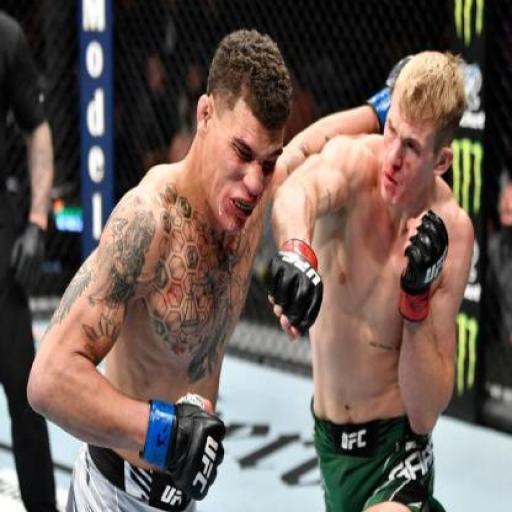Fighting: (24, 27, 476, 512)
